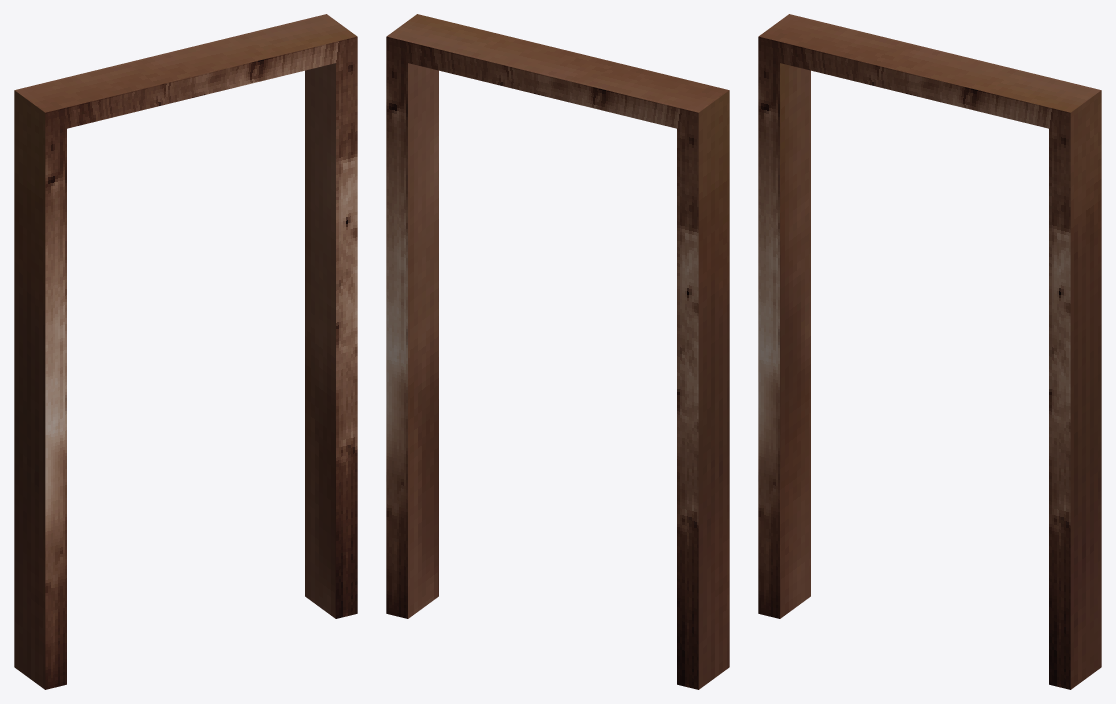
Rendered from doorframe_001.glb.
3 renders of one model, left to right at view 1: azimuth 30°, elevation 25°; view 2: azimuth 150°, elevation 25°; view 3: azimuth 330°, elevation 25°, orthographic.
Parts seen in each view (by area): view 1: Doorframe; view 2: Doorframe; view 3: Doorframe.
Part boxes in pixels (x1,y1,x2,y2): Doorframe: (14,14,357,689); Doorframe: (386,14,729,689); Doorframe: (758,14,1101,689).
Size of the model in its own units: 1.17 by 2.07 by 0.2.
Materials: 1 (1 with a texture image).
